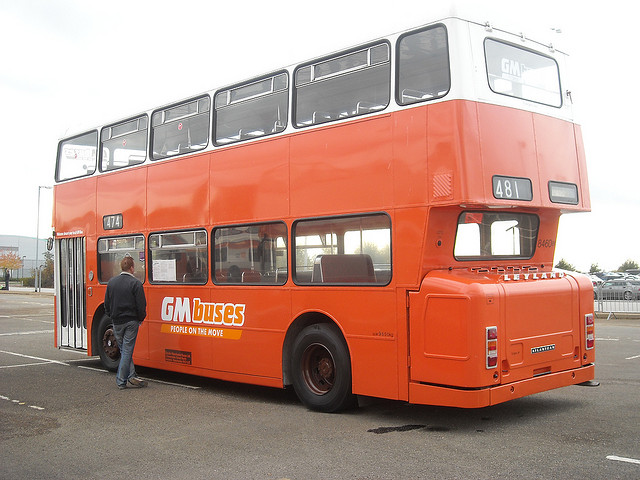Bus: (48, 17, 612, 387)
Person: (98, 257, 156, 388)
